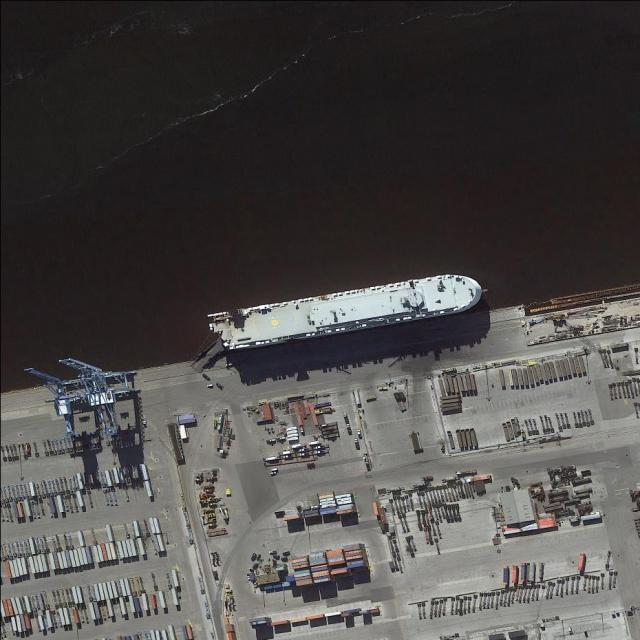RoRo: (202, 263, 494, 355)
